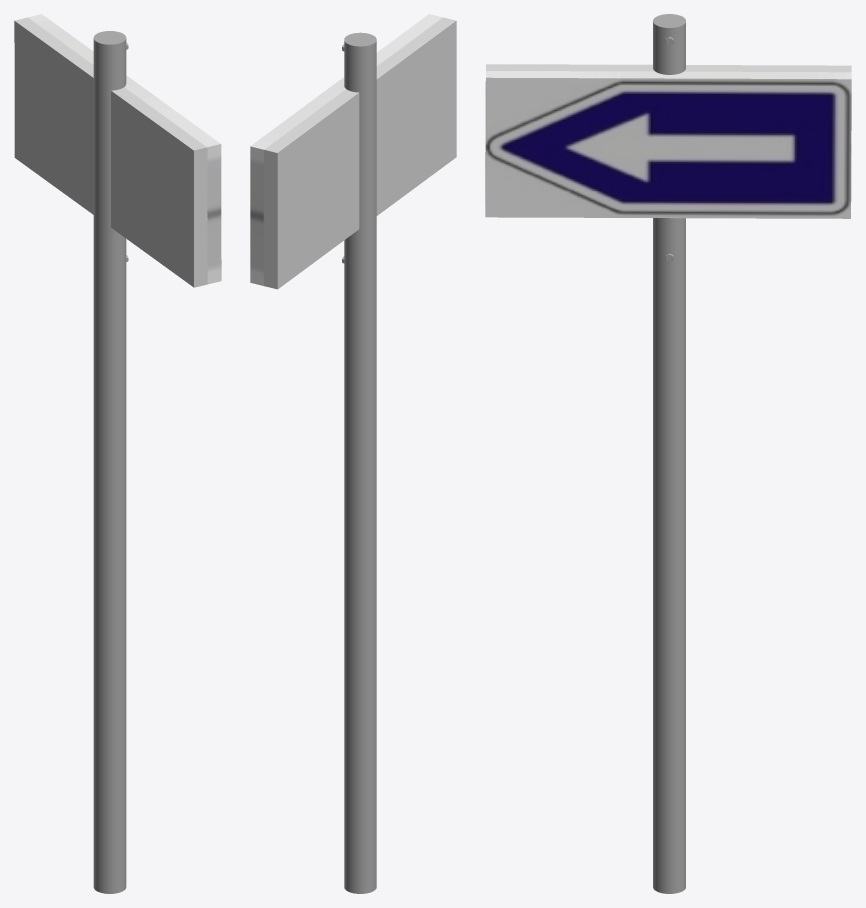
Rendered from TurnBlueErrowLeft(1).fbx.
3 renders of one model, left to right at view 1: azimuth 30°, elevation 25°; view 2: azimuth 150°, elevation 25°; view 3: azimuth 270°, elevation 25°, orthographic. The views are drawn at different scales.
Parts seen in each view (by area): view 1: Cylinder, Plane.002, Plane.001; view 2: Plane.002, Cylinder, Plane.001; view 3: Plane.001, Cylinder, Plane.002.
Boxes of the visible parts, x1,y1,x2,y2 form: Cylinder: [93, 31, 126, 893]; Plane.002: [14, 17, 207, 287]; Plane.001: [28, 14, 221, 284]; Plane.002: [263, 17, 456, 289]; Cylinder: [344, 32, 376, 893]; Plane.001: [250, 14, 442, 285]; Plane.001: [485, 71, 851, 218]; Cylinder: [653, 14, 685, 893]; Plane.002: [485, 64, 851, 158].
Size of the model in its own units: 25.2 by 580 by 222.
Materials: 3 (1 with a texture image).
